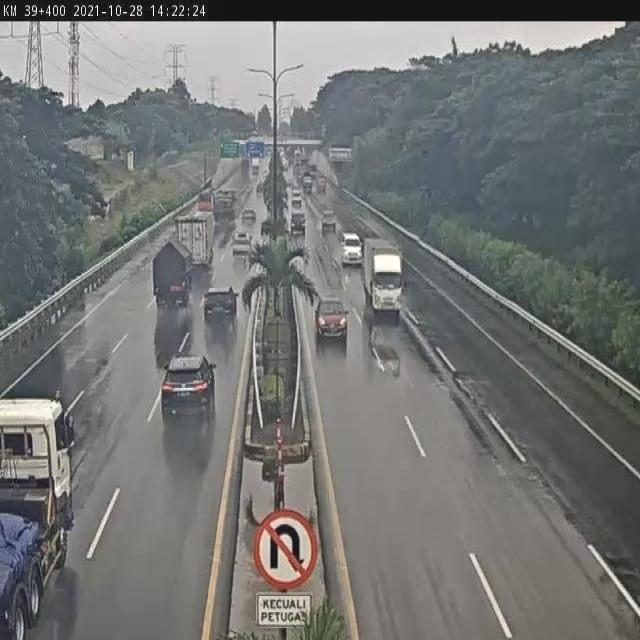Car: (158, 339, 214, 425), (204, 276, 248, 337), (314, 290, 350, 352), (337, 226, 369, 265), (230, 228, 260, 264), (318, 201, 341, 240), (288, 203, 310, 235), (287, 183, 311, 210), (239, 203, 260, 230)
Truck: (0, 376, 81, 640), (358, 231, 410, 328), (146, 239, 195, 303), (176, 208, 215, 272), (212, 174, 239, 226)
